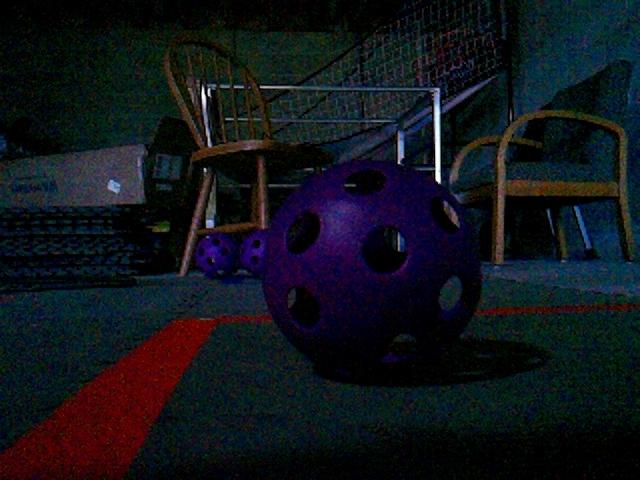Purple: (259, 160, 480, 374), (191, 232, 237, 278), (238, 231, 268, 274)
